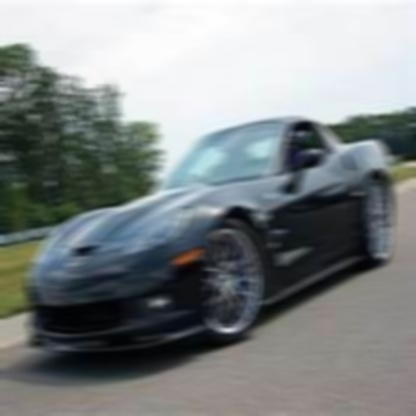Vehicle: (29, 120, 391, 351)
